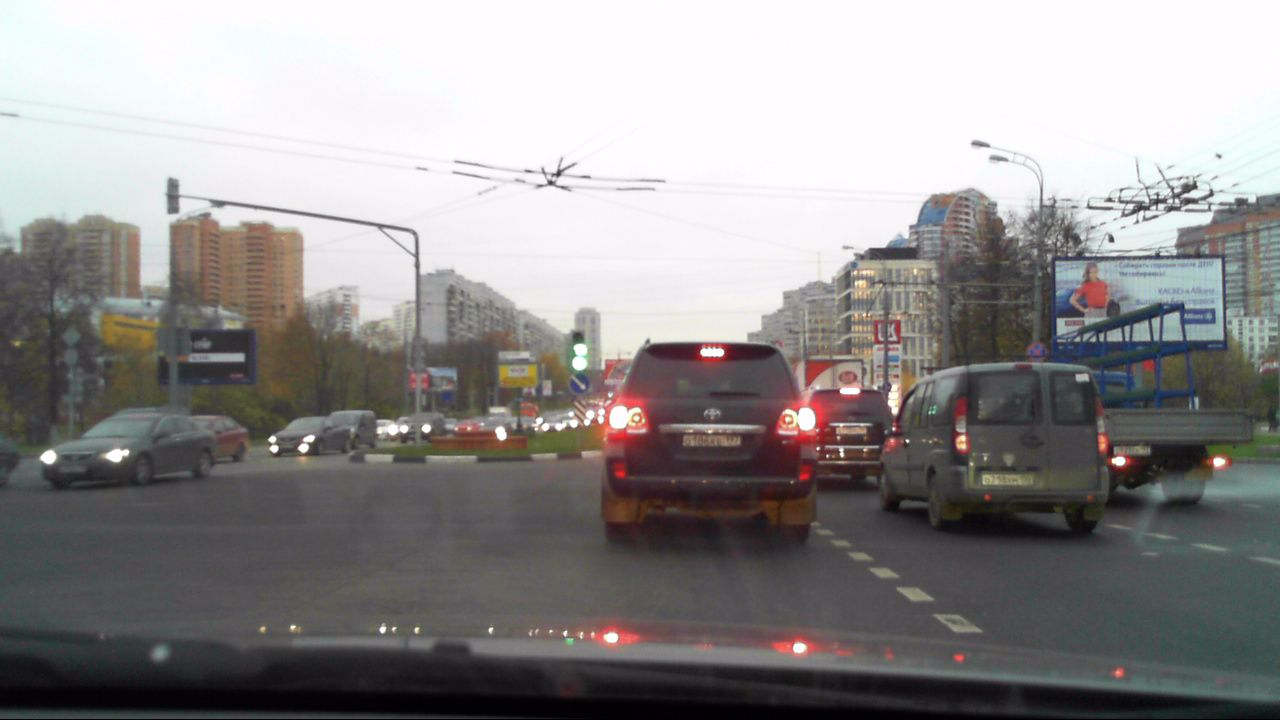No Parking: (1025, 342, 1049, 364)
